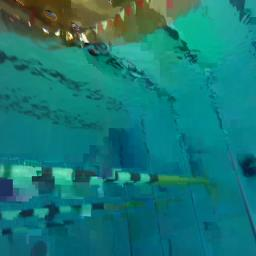Full: (238, 156, 256, 178)
